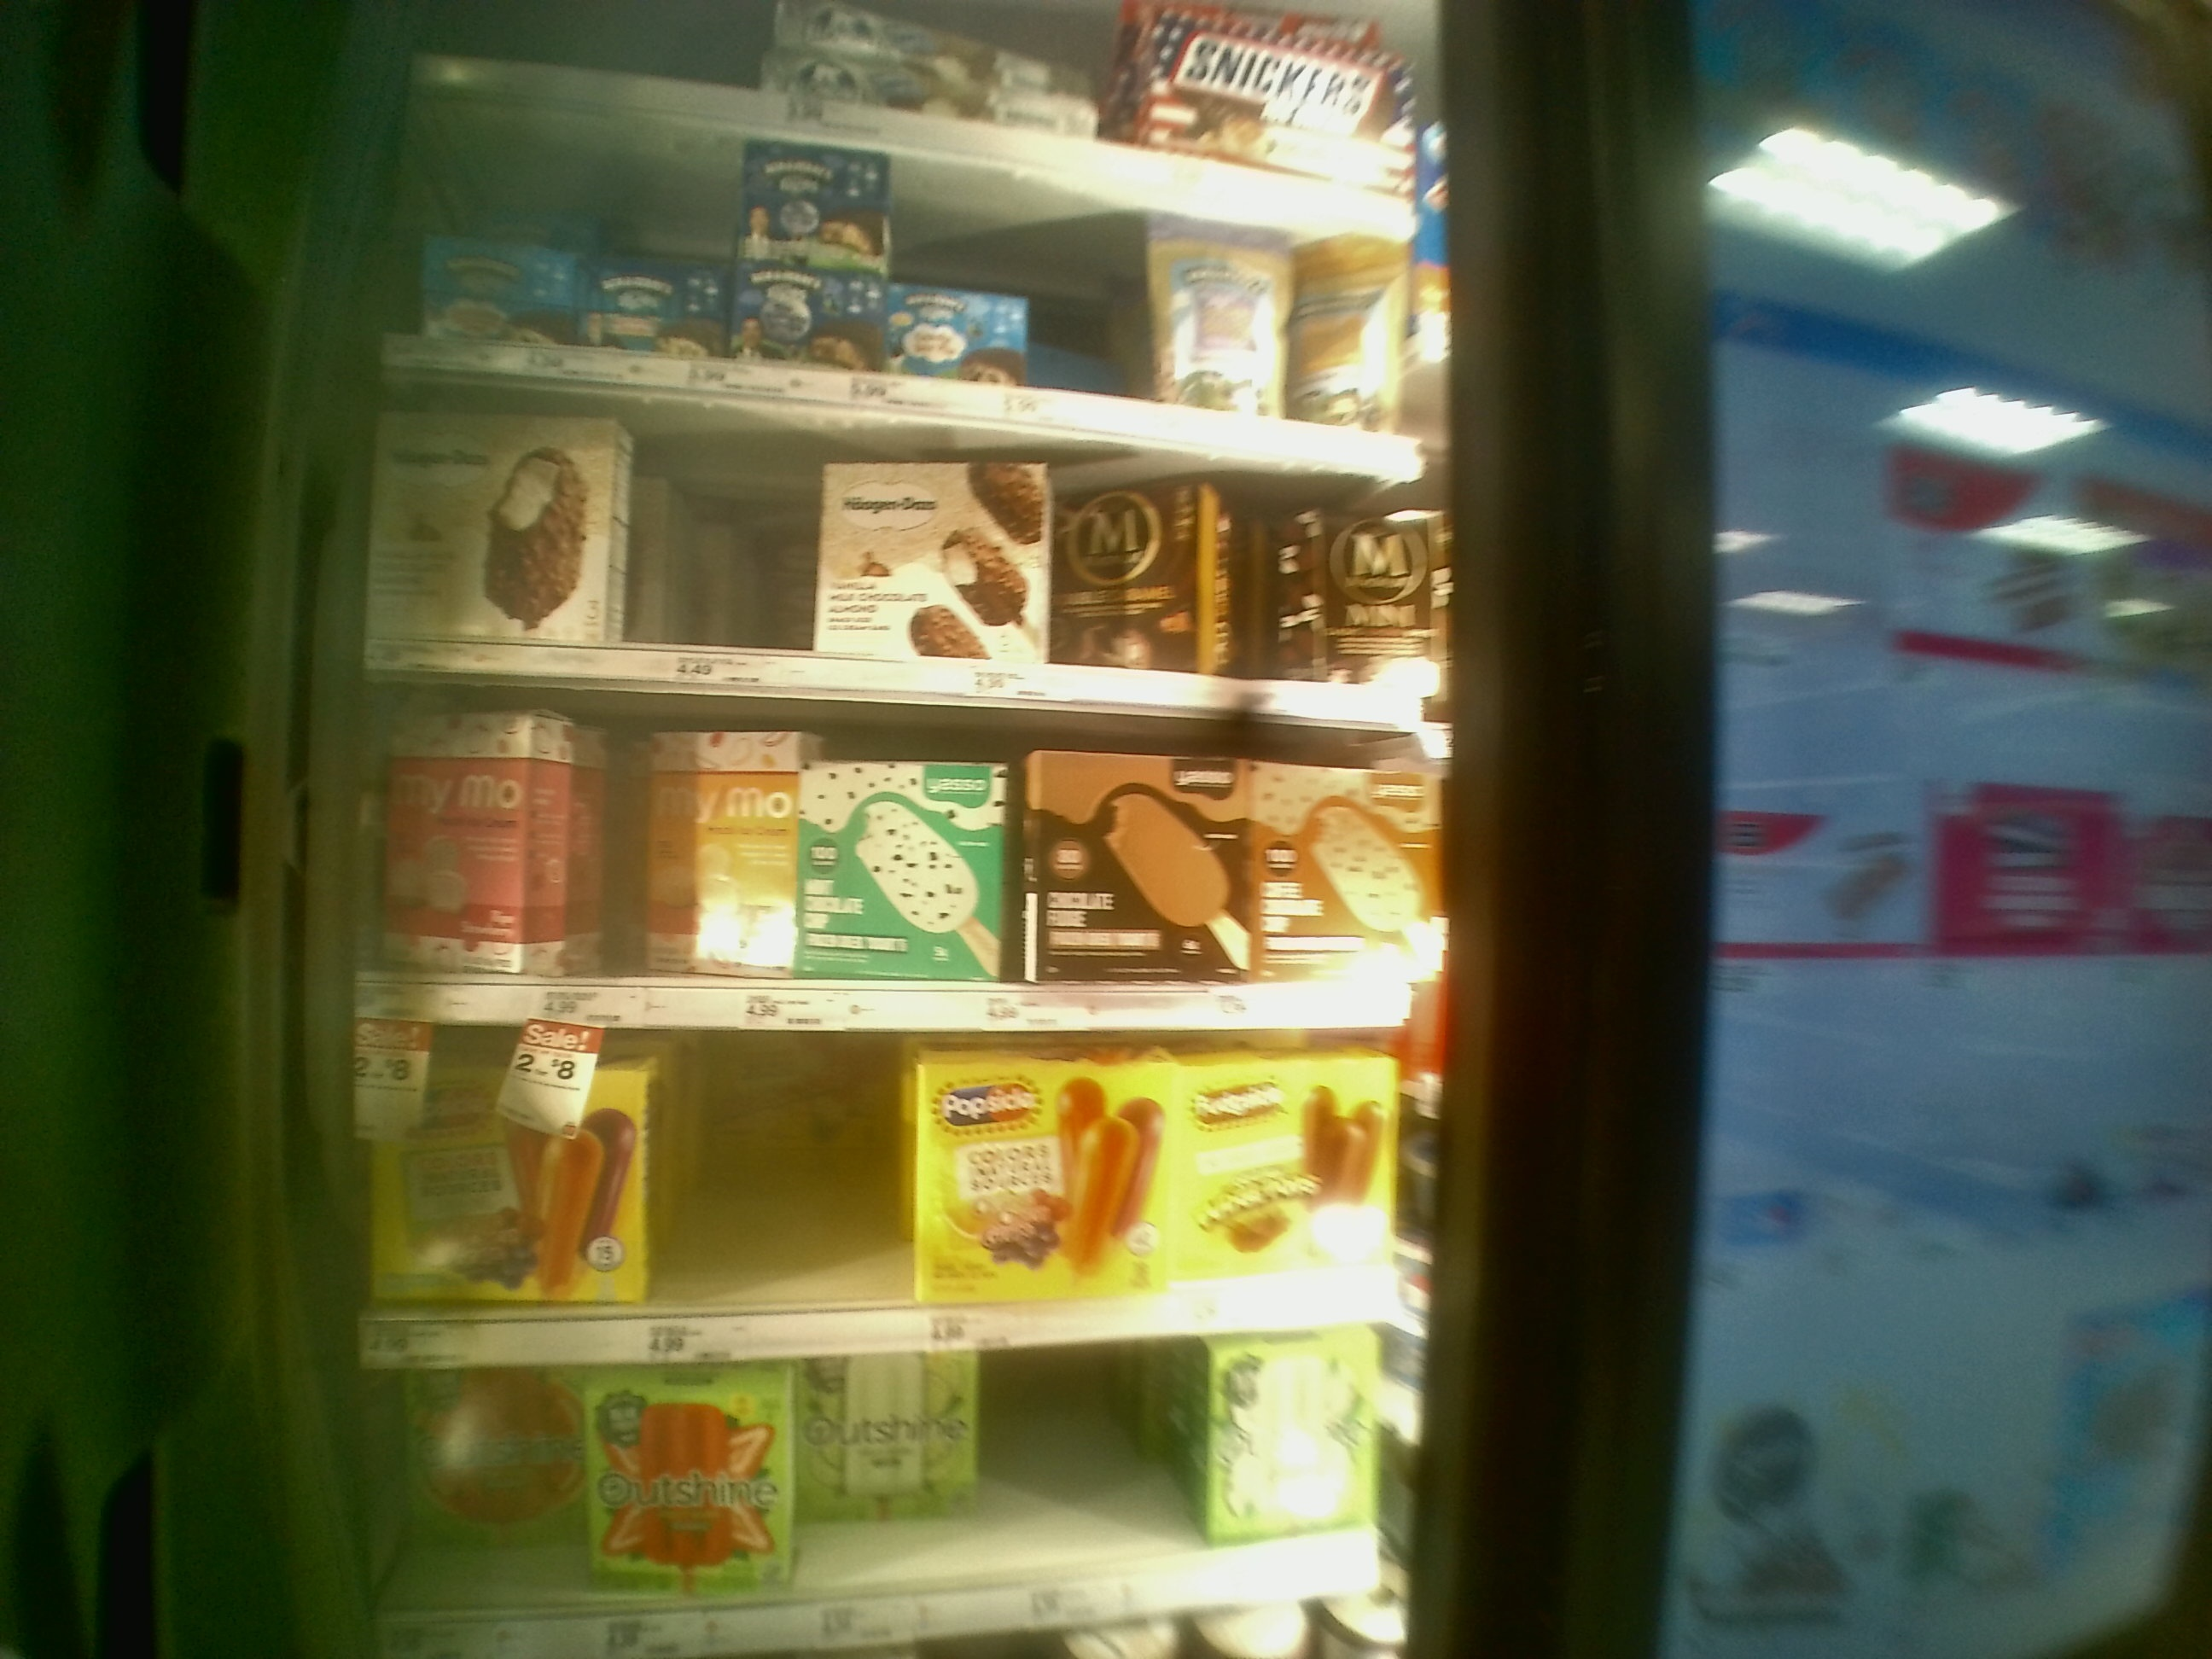shelf: (364, 380, 1440, 727), (359, 713, 1435, 1030)
